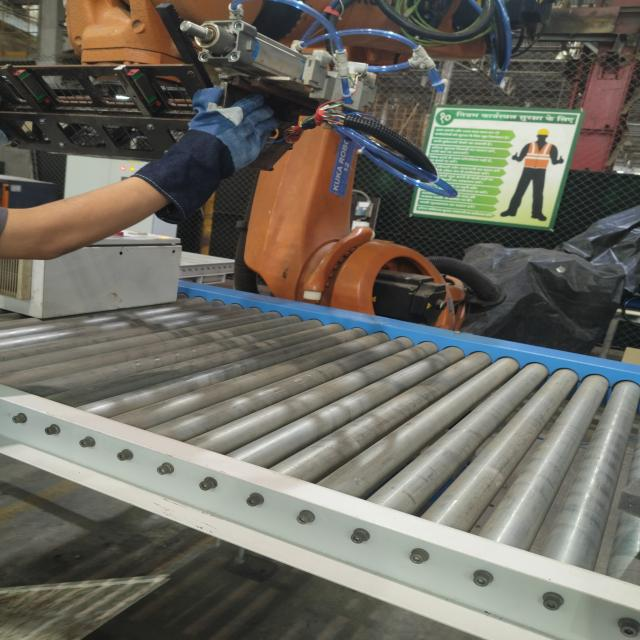Gloves-Detection: (128, 93, 284, 218)
